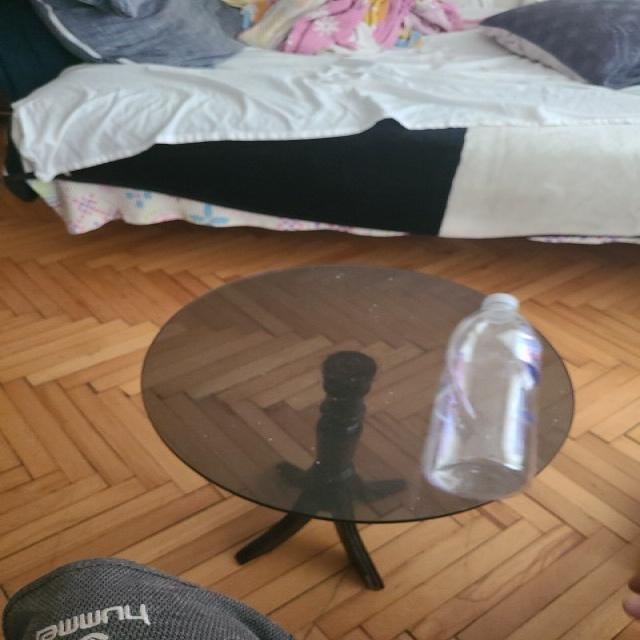bottle: (422, 293, 543, 501)
